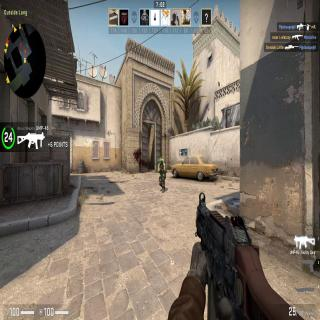CT-Body: (158, 156, 166, 187)
CT-Head: (159, 158, 164, 166)
